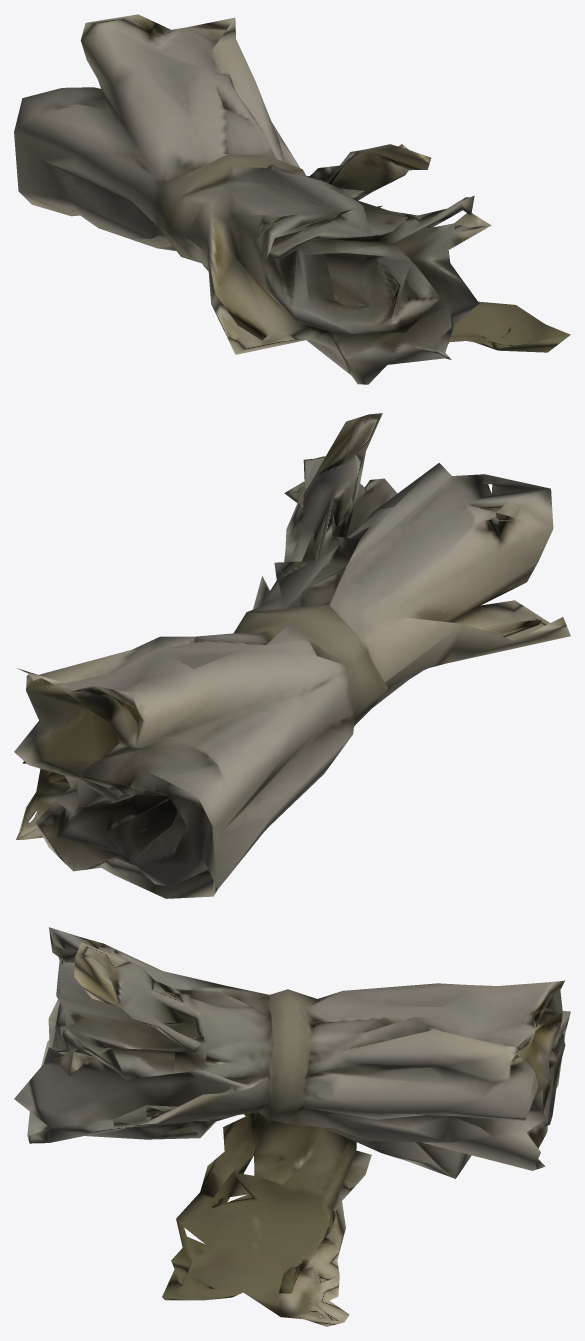
The model's file is rags_bundle.0df49a76f7.glb.
The picture shows the model from 3 angles, top to bottom: view 1: azimuth 30°, elevation 25°; view 2: azimuth 150°, elevation 25°; view 3: azimuth 270°, elevation 25°; orthographic projection. The views are drawn at different scales.
Visible parts, largest first — view 1: rags_bundle; view 2: rags_bundle; view 3: rags_bundle.
Part boxes in pixels (box(x1,y1,x2,y2)): rags_bundle: box(14, 14, 570, 384); rags_bundle: box(14, 413, 570, 898); rags_bundle: box(14, 927, 570, 1326).
Size of the model in its own units: 0.1482 by 0.1182 by 0.2.
1 material, 1 textured.
